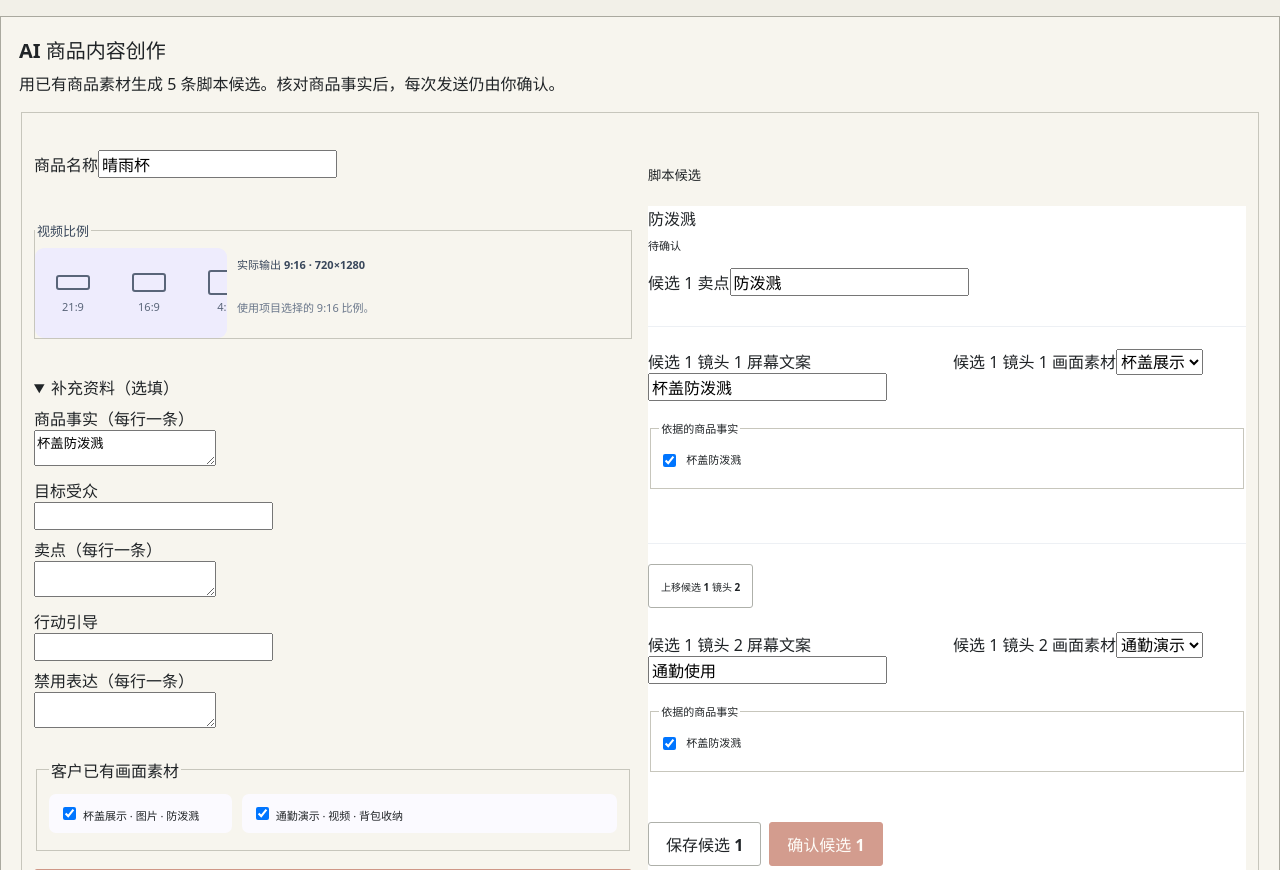
简报更新后可不改写文案而重新核对候选
What coordinates should you click on to do the following:
click the button "保存候选 1"
I would click on:
 (705, 844)
Its box is left=648, top=822, right=761, bottom=866.
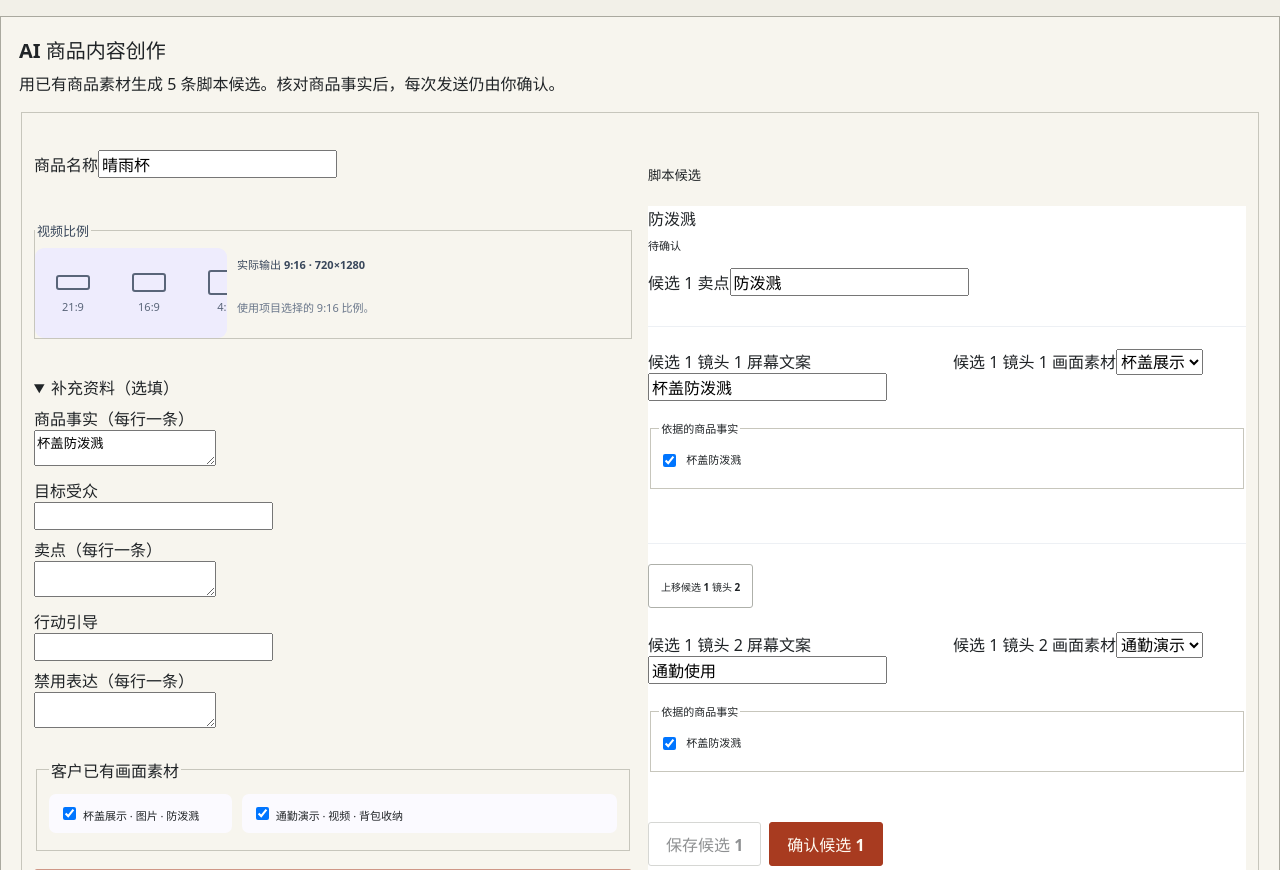
Expected: the heading "防泼溅" is shown, left=648, top=208, right=696, bottom=230
Expected: the button "确认候选 1" is enabled, left=769, top=822, right=883, bottom=866
